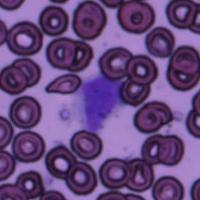M: (73, 74, 121, 132)
